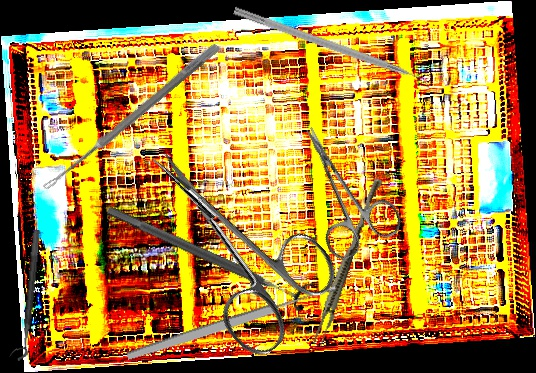Chopper: (229, 6, 436, 98)
Fixation Ring: (101, 194, 315, 315), (9, 228, 41, 362)
Iris Scissors: (108, 113, 351, 365), (276, 109, 407, 264)
Surgical Spoon: (41, 41, 221, 194), (125, 282, 338, 363)
Tissue Forceps: (310, 174, 384, 349)
